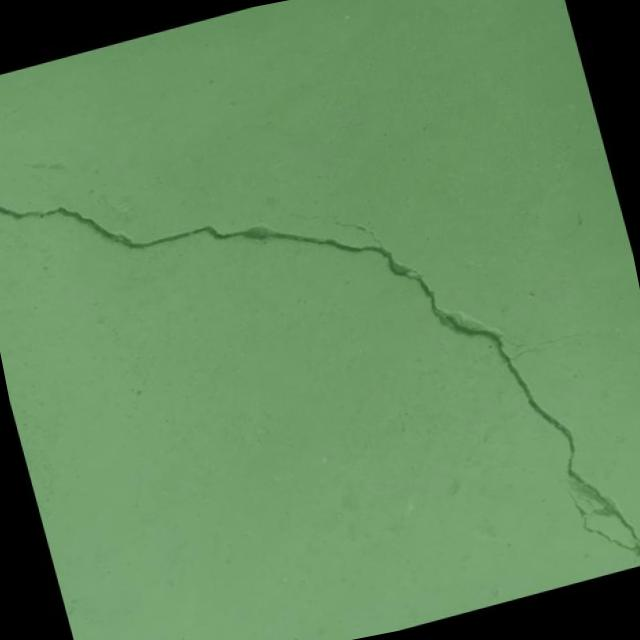crack: (0, 19, 640, 640), (629, 345, 640, 356)
